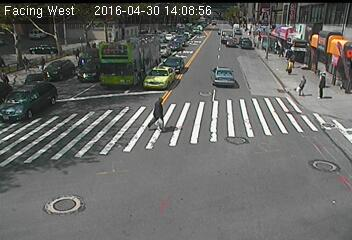neg: (263, 42, 275, 58), (171, 36, 183, 52), (157, 30, 167, 42), (282, 27, 291, 39), (76, 57, 84, 68), (254, 29, 261, 38)
pos: (144, 95, 172, 132), (312, 69, 333, 98), (293, 73, 311, 96), (16, 53, 32, 74), (283, 54, 298, 75), (38, 56, 48, 69), (71, 47, 79, 58), (89, 38, 97, 49), (83, 38, 91, 49)
